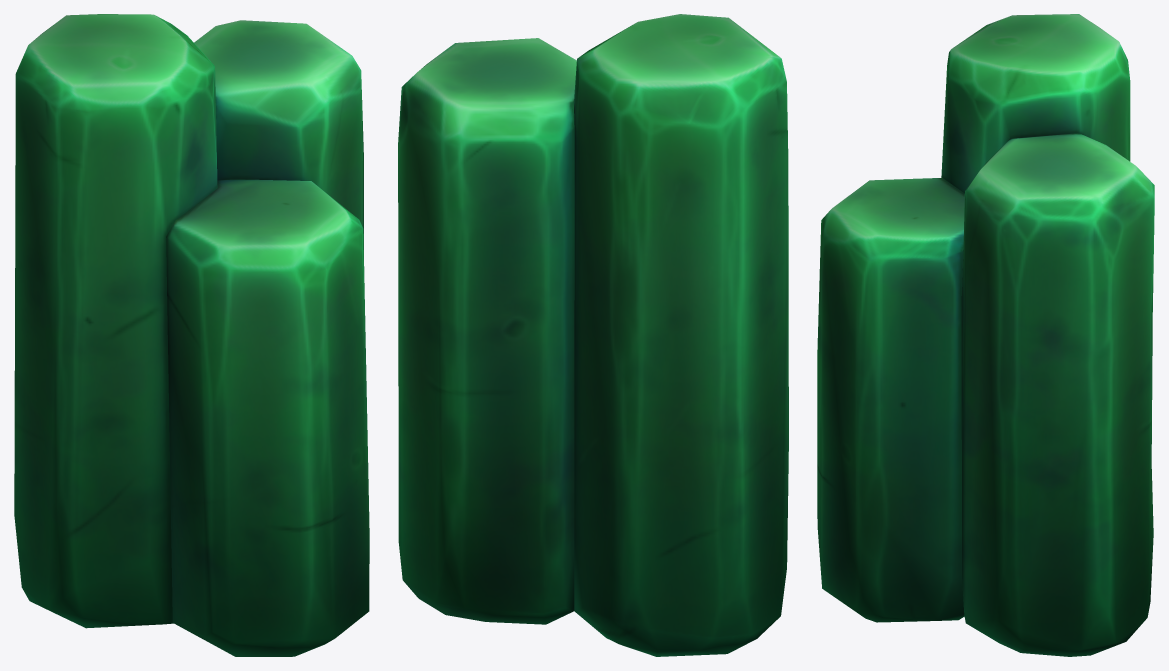
The model's file is SM_Gem_Emerald_001.fbx.
3 views of the same model, side by side, from view 1: azimuth 30°, elevation 25°; view 2: azimuth 150°, elevation 25°; view 3: azimuth 270°, elevation 25° (orthographic). The views are drawn at different scales.
Parts seen in each view (by area): view 1: SM_Gem_Emerald_001; view 2: SM_Gem_Emerald_001; view 3: SM_Gem_Emerald_001.
Boxes of the visible parts, bbox=[...] form: SM_Gem_Emerald_001: bbox=[14, 14, 369, 656]; SM_Gem_Emerald_001: bbox=[398, 14, 788, 656]; SM_Gem_Emerald_001: bbox=[817, 14, 1154, 656].
Size of the model in its own units: 30.36 by 49.94 by 29.62.
